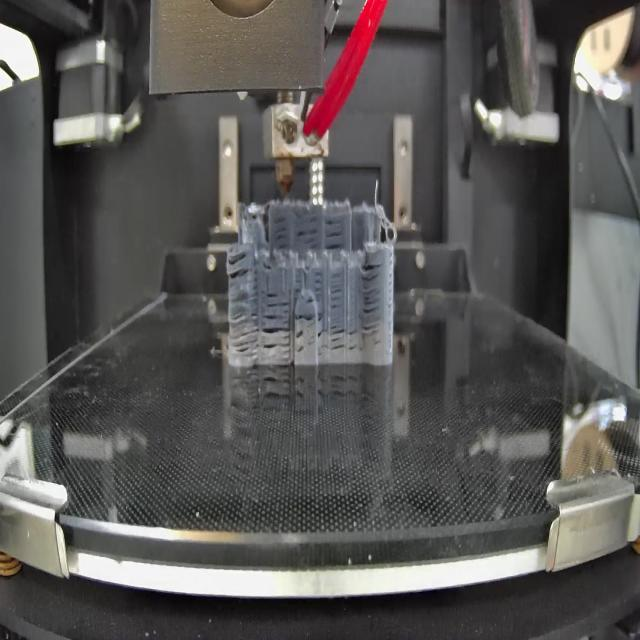cracks: (231, 289, 259, 361), (361, 260, 385, 336), (264, 323, 291, 363), (226, 248, 256, 283), (330, 323, 360, 353), (325, 216, 348, 252), (298, 216, 320, 249), (274, 210, 289, 251), (267, 290, 292, 312), (298, 309, 326, 328), (330, 270, 342, 310), (296, 330, 307, 359), (293, 268, 304, 291), (315, 265, 324, 293), (317, 326, 327, 350), (306, 296, 316, 305)
